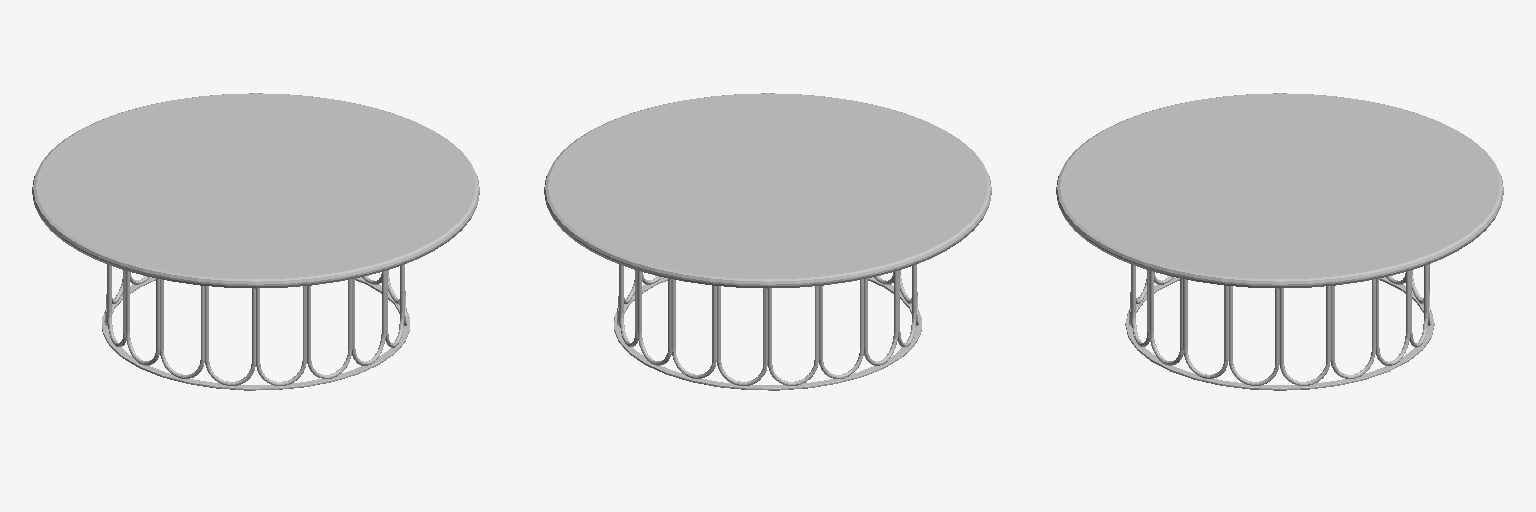
File: CoffeeO.obj
3 views of the same model, side by side, from view 1: azimuth 30°, elevation 25°; view 2: azimuth 150°, elevation 25°; view 3: azimuth 270°, elevation 25° (orthographic).
Visible parts, largest first — view 1: coffee-table-037; view 2: coffee-table-037; view 3: coffee-table-037.
Boxes of the visible parts, <box> form: coffee-table-037: <box>32,93,479,390</box>; coffee-table-037: <box>544,93,991,390</box>; coffee-table-037: <box>1056,93,1503,390</box>.
Size of the model in its own units: 0.9 by 0.3085 by 0.9.